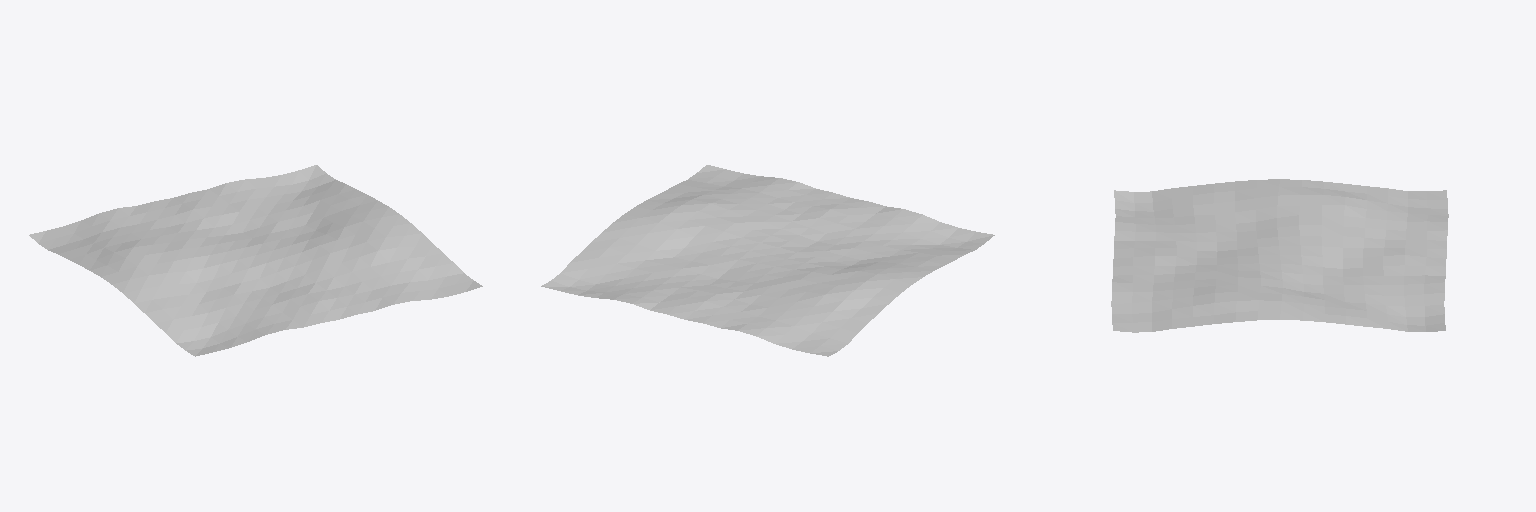
The model's file is water_000012.obj.
The picture shows the model from 3 angles: view 1: azimuth 30°, elevation 25°; view 2: azimuth 150°, elevation 25°; view 3: azimuth 270°, elevation 25°; orthographic projection.
Visible parts, largest first — view 1: Plan.003_Plan.001; view 2: Plan.003_Plan.001; view 3: Plan.003_Plan.001.
Part boxes in pixels (x1,y1,x2,y2): Plan.003_Plan.001: (29, 165, 482, 356); Plan.003_Plan.001: (541, 165, 994, 356); Plan.003_Plan.001: (1111, 179, 1448, 332).
Bounding box in the file's own units: 60521 × 3415 × 61085.